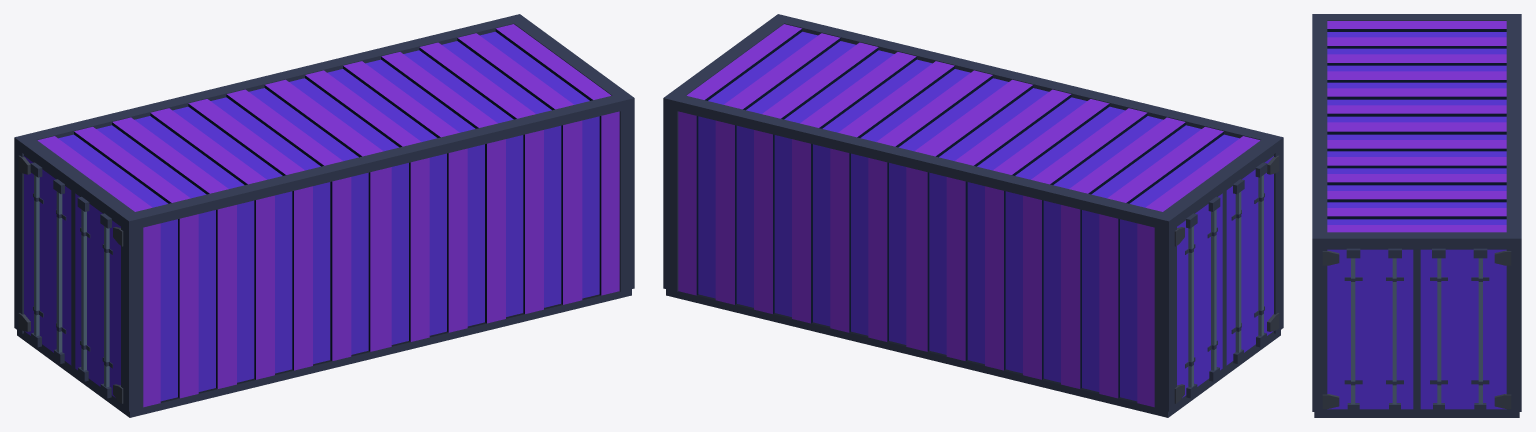
The model's file is Prop_Shippin03.fbx.
The picture shows the model from 3 angles, left to right: view 1: azimuth 30°, elevation 25°; view 2: azimuth 150°, elevation 25°; view 3: azimuth 270°, elevation 25°; orthographic projection. The views are drawn at different scales.
Visible parts, largest first — view 1: Cube.875; view 2: Cube.875; view 3: Cube.875.
Boxes of the visible parts, <box> form: Cube.875: <box>14,14,634,417</box>; Cube.875: <box>663,14,1283,417</box>; Cube.875: <box>1312,14,1521,417</box>.
Size of the model in its own units: 910 by 337 by 355.
